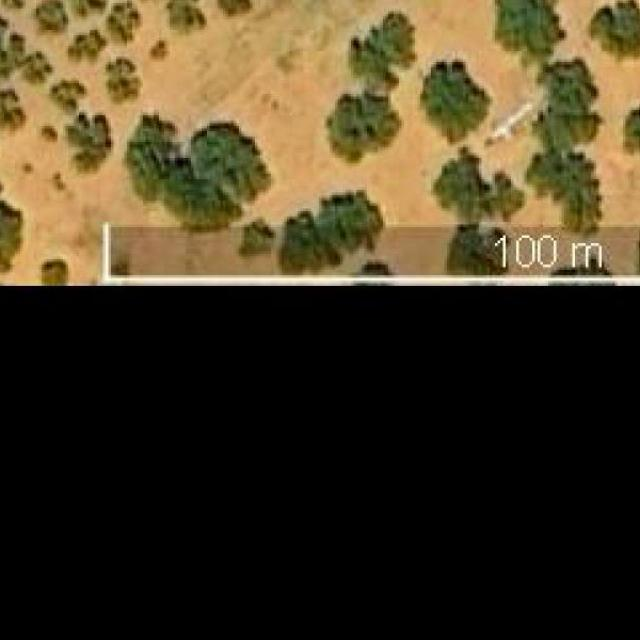Tree: (127, 115, 276, 233), (239, 193, 383, 273), (527, 147, 604, 242), (434, 150, 525, 222), (340, 8, 415, 86), (420, 56, 493, 134), (324, 94, 397, 168), (441, 216, 510, 282), (494, 0, 564, 53), (585, 0, 640, 65), (63, 110, 113, 174), (0, 173, 23, 277), (103, 60, 141, 106), (168, 0, 215, 35), (47, 78, 86, 115), (619, 101, 640, 165), (108, 3, 138, 44), (0, 92, 29, 134), (20, 51, 56, 84), (36, 0, 66, 30), (68, 35, 100, 62), (38, 259, 68, 284), (68, 0, 109, 17), (218, 0, 252, 17), (1, 0, 31, 12), (635, 227, 640, 275)
